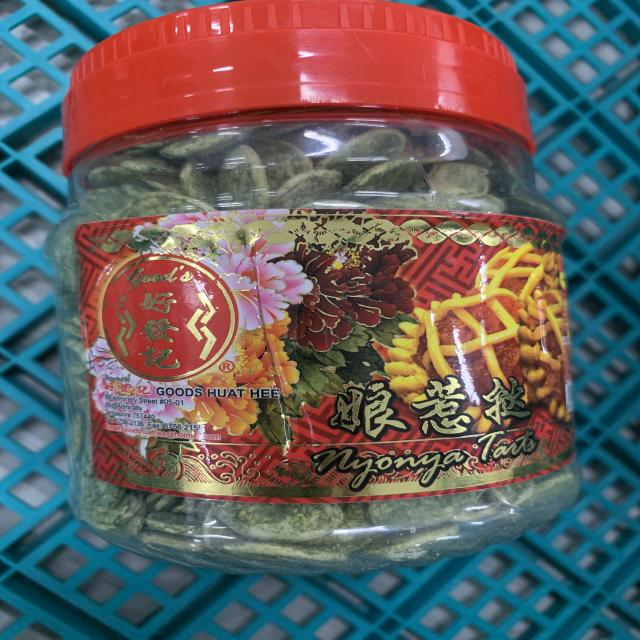object_name: (64, 37, 548, 527)
